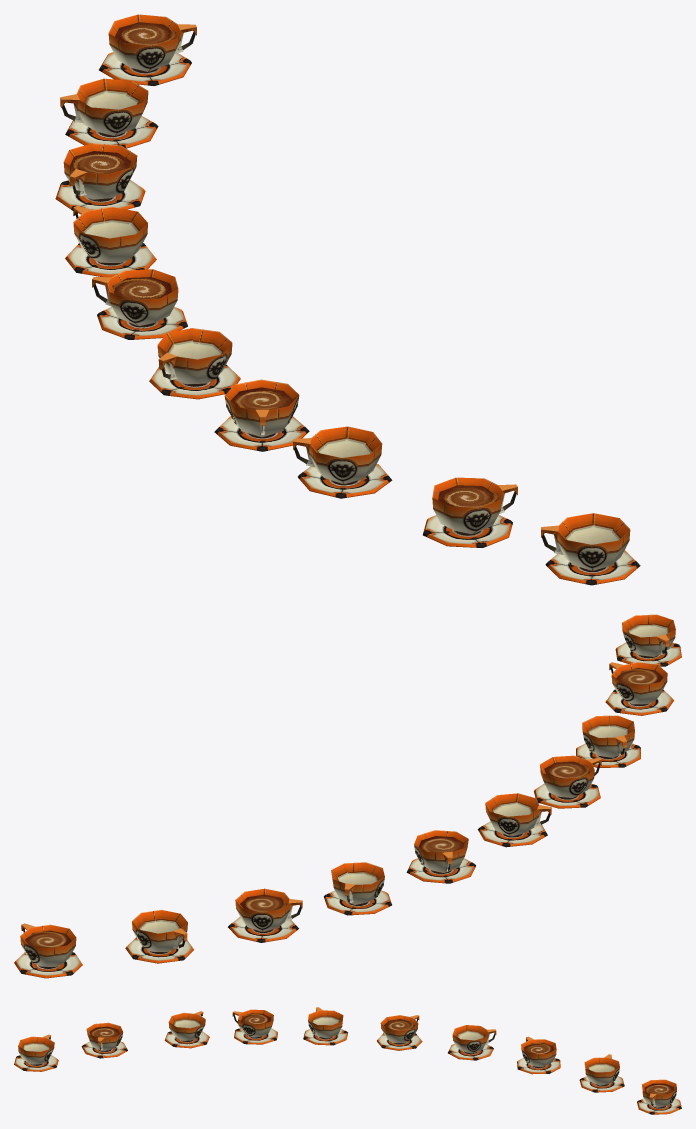
File: stg220_MotCupC_12.obj
The picture shows the model from 3 angles, top to bottom: view 1: azimuth 30°, elevation 25°; view 2: azimuth 150°, elevation 25°; view 3: azimuth 270°, elevation 25°; orthographic projection. The views are drawn at different scales.
Visible parts, largest first — view 1: polygon5, polygon2, polygon14, polygon8, polygon11, polygon0, polygon3, polygon9, polygon6, polygon12, polygon1, polygon4 (+3 smaller); view 2: polygon8, polygon14, polygon11, polygon2, polygon5, polygon12, polygon6, polygon3, polygon0, polygon9, polygon1, polygon13 (+3 smaller); view 3: polygon11, polygon5, polygon2, polygon14, polygon8, polygon6, polygon9, polygon12, polygon3, polygon0, polygon7, polygon1 (+3 smaller).
Boxes of the visible parts, x1=… form: polygon5: x1=293, y1=426, x2=392, y2=498; polygon2: x1=541, y1=513, x2=640, y2=585; polygon14: x1=60, y1=78, x2=158, y2=148; polygon8: x1=149, y1=328, x2=240, y2=399; polygon11: x1=65, y1=205, x2=156, y2=277; polygon0: x1=99, y1=14, x2=196, y2=85; polygon3: x1=423, y1=477, x2=517, y2=547; polygon9: x1=92, y1=269, x2=187, y2=339; polygon6: x1=214, y1=379, x2=309, y2=451; polygon12: x1=55, y1=143, x2=145, y2=210; polygon1: x1=115, y1=22, x2=175, y2=45; polygon4: x1=438, y1=485, x2=497, y2=507; polygon8: x1=478, y1=793, x2=551, y2=847; polygon14: x1=125, y1=909, x2=193, y2=963; polygon11: x1=324, y1=862, x2=391, y2=915; polygon2: x1=615, y1=614, x2=681, y2=666; polygon5: x1=576, y1=715, x2=640, y2=767; polygon12: x1=228, y1=888, x2=302, y2=942; polygon6: x1=534, y1=755, x2=601, y2=808; polygon3: x1=605, y1=662, x2=673, y2=715; polygon0: x1=14, y1=923, x2=82, y2=978; polygon9: x1=406, y1=830, x2=475, y2=883; polygon1: x1=25, y1=930, x2=71, y2=948; polygon13: x1=240, y1=894, x2=286, y2=912; polygon11: x1=448, y1=1025, x2=496, y2=1060; polygon5: x1=164, y1=1011, x2=209, y2=1048; polygon2: x1=14, y1=1034, x2=58, y2=1071; polygon14: x1=579, y1=1054, x2=624, y2=1092; polygon8: x1=303, y1=1007, x2=347, y2=1045; polygon6: x1=232, y1=1009, x2=277, y2=1044; polygon9: x1=377, y1=1015, x2=422, y2=1050; polygon12: x1=517, y1=1036, x2=560, y2=1074; polygon3: x1=81, y1=1022, x2=127, y2=1058; polygon0: x1=637, y1=1079, x2=681, y2=1114; polygon7: x1=241, y1=1013, x2=270, y2=1024; polygon1: x1=644, y1=1083, x2=674, y2=1094.
Size of the model in its own units: 573 by 55.06 by 1789.
2 materials, 2 textured.
